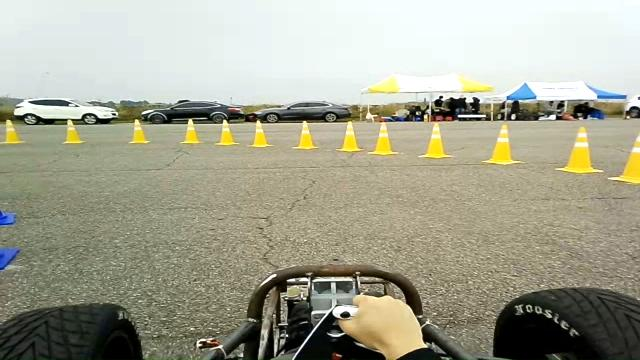yellow cone: (554, 126, 604, 174), (481, 124, 523, 165), (607, 133, 639, 184), (418, 122, 454, 159), (367, 120, 398, 155), (335, 120, 364, 152), (292, 120, 319, 150), (247, 119, 273, 148), (214, 119, 239, 145), (179, 118, 203, 144), (61, 119, 85, 144), (1, 119, 24, 144), (128, 118, 150, 144)
